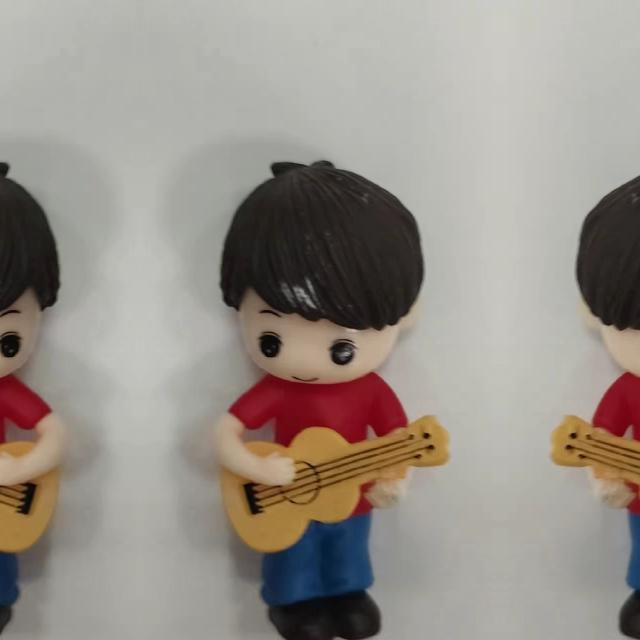man cloth: (228, 373, 414, 525), (586, 373, 640, 525), (0, 373, 52, 525)
man head: (211, 153, 427, 389), (0, 153, 69, 389), (573, 153, 640, 389)
trousers: (245, 509, 395, 633), (0, 509, 35, 633), (605, 509, 640, 633)
